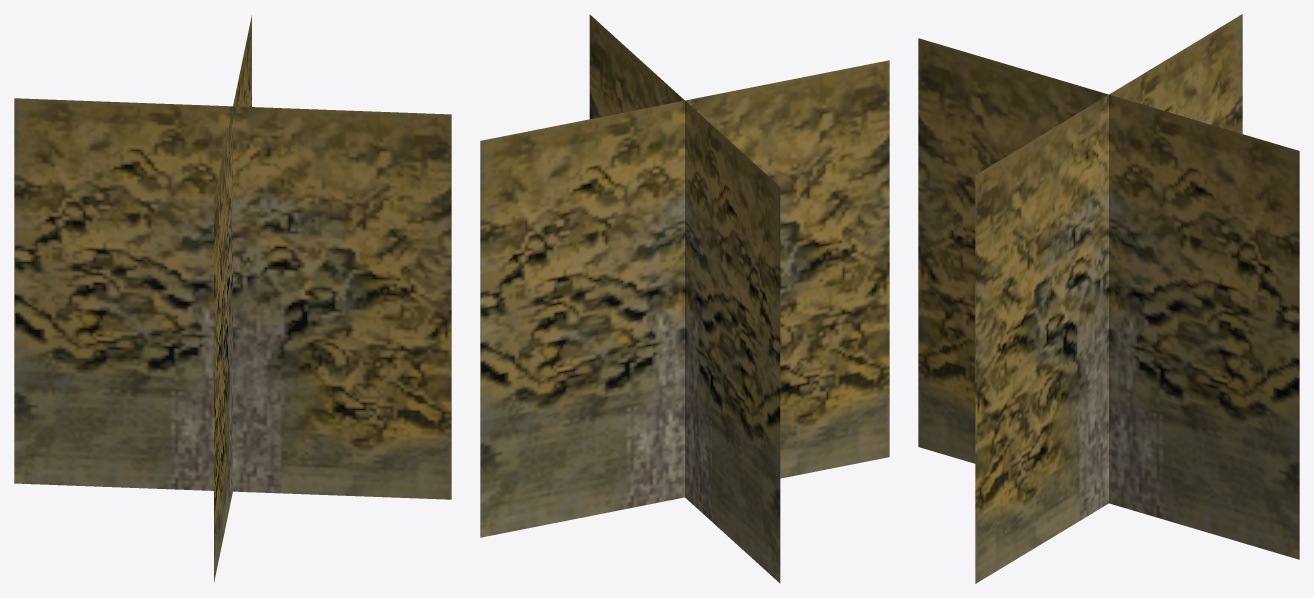
Rendered from Tree_Live02.glb.
3 views of the same model, side by side, from view 1: azimuth 30°, elevation 25°; view 2: azimuth 150°, elevation 25°; view 3: azimuth 270°, elevation 25° (orthographic). The views are drawn at different scales.
Parts seen in each view (by area): view 1: TREE_LIVE02; view 2: TREE_LIVE02; view 3: TREE_LIVE02.
Boxes of the visible parts, left/top/right/bottom form: TREE_LIVE02: left=14, top=15, right=451, bottom=582; TREE_LIVE02: left=480, top=14, right=889, bottom=583; TREE_LIVE02: left=918, top=14, right=1299, bottom=583.
Bounding box in the file's own units: 3.28 × 3.88 × 3.28.
Materials: 1 (1 with a texture image).
